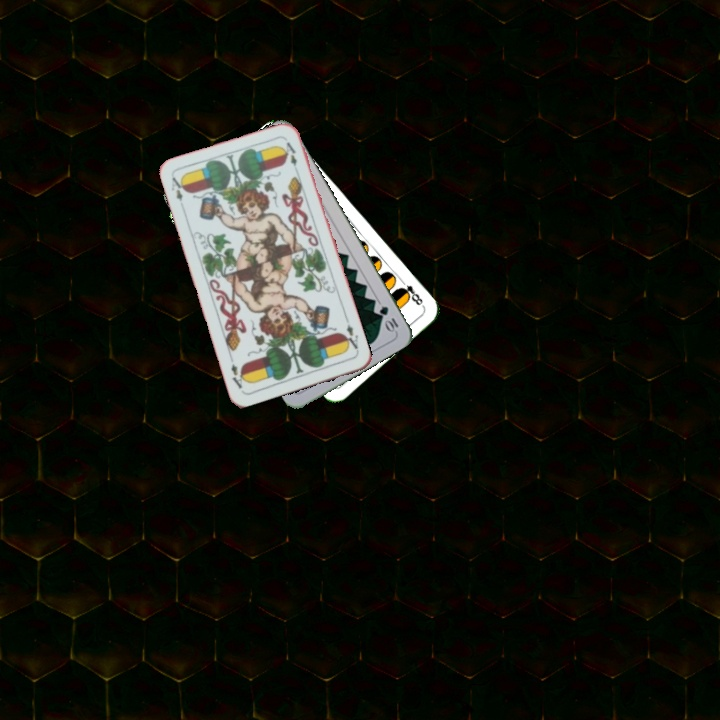E8: (395, 275, 427, 310)
EA: (339, 320, 361, 355), (167, 173, 188, 204)
G10: (375, 302, 401, 335)
